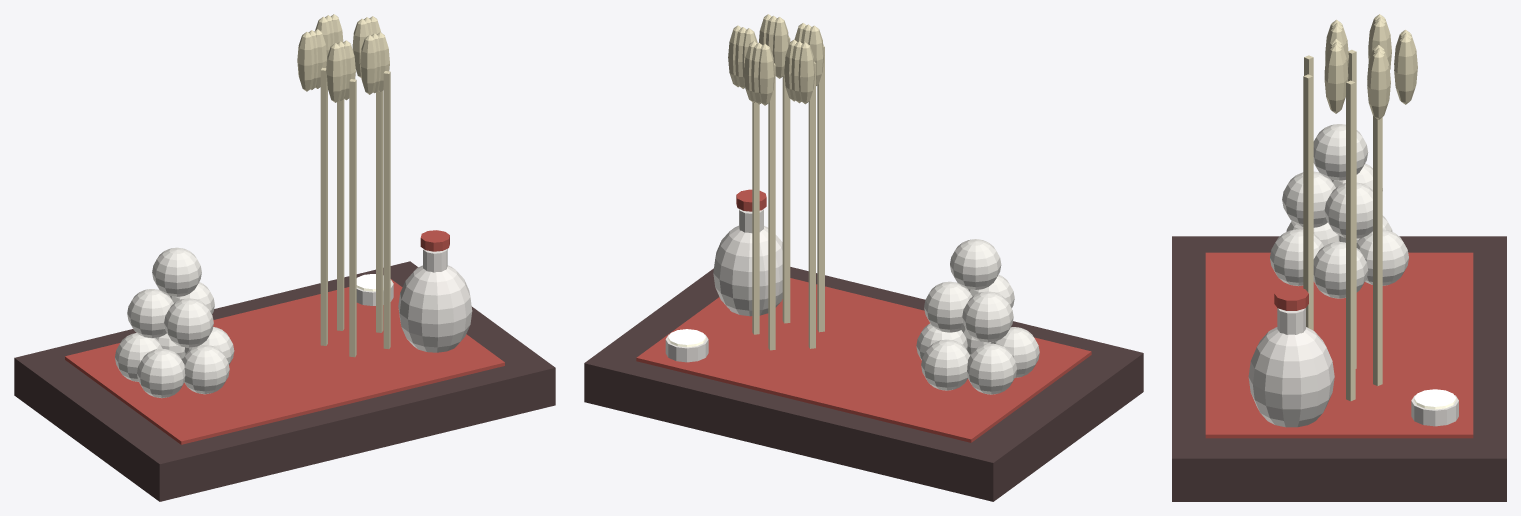
The model's file is tsukimi_tray.glb.
3 renders of one model, left to right at view 1: azimuth 30°, elevation 25°; view 2: azimuth 150°, elevation 25°; view 3: azimuth 270°, elevation 25°, orthographic. The views are drawn at different scales.
Parts seen in each view (by area): view 1: tsukimi_tray; view 2: tsukimi_tray; view 3: tsukimi_tray.
Part boxes in pixels (left/top/right/bottom): tsukimi_tray: left=14, top=14, right=555, bottom=501; tsukimi_tray: left=584, top=14, right=1143, bottom=501; tsukimi_tray: left=1172, top=14, right=1506, bottom=501.
Bounding box in the file's own units: 0.55 × 0.46 × 0.35.
